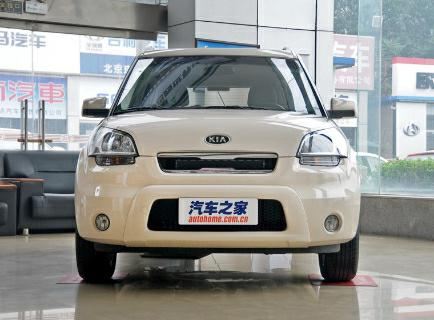起亚-秀尔: (68, 43, 368, 291)
